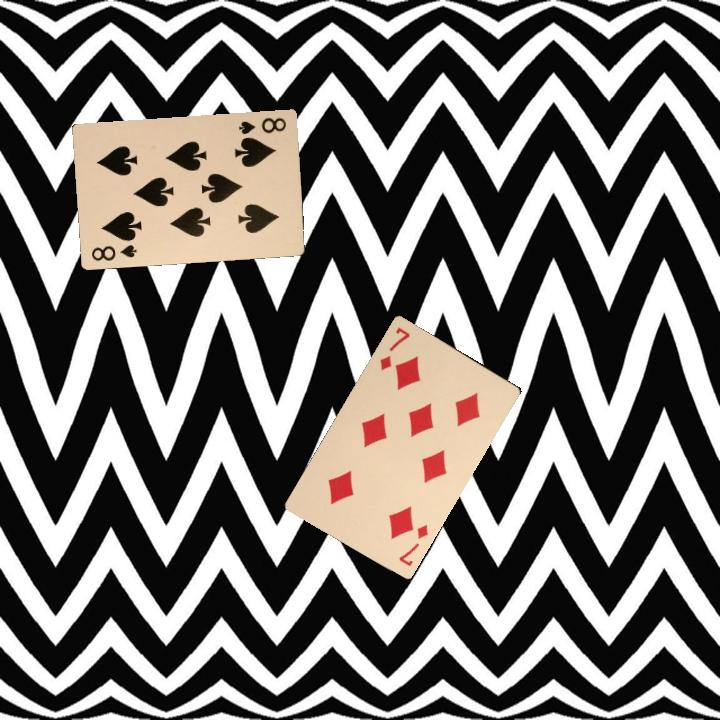7d: (376, 323, 413, 373), (395, 520, 431, 569)
8s: (234, 114, 289, 137), (87, 241, 139, 264)
